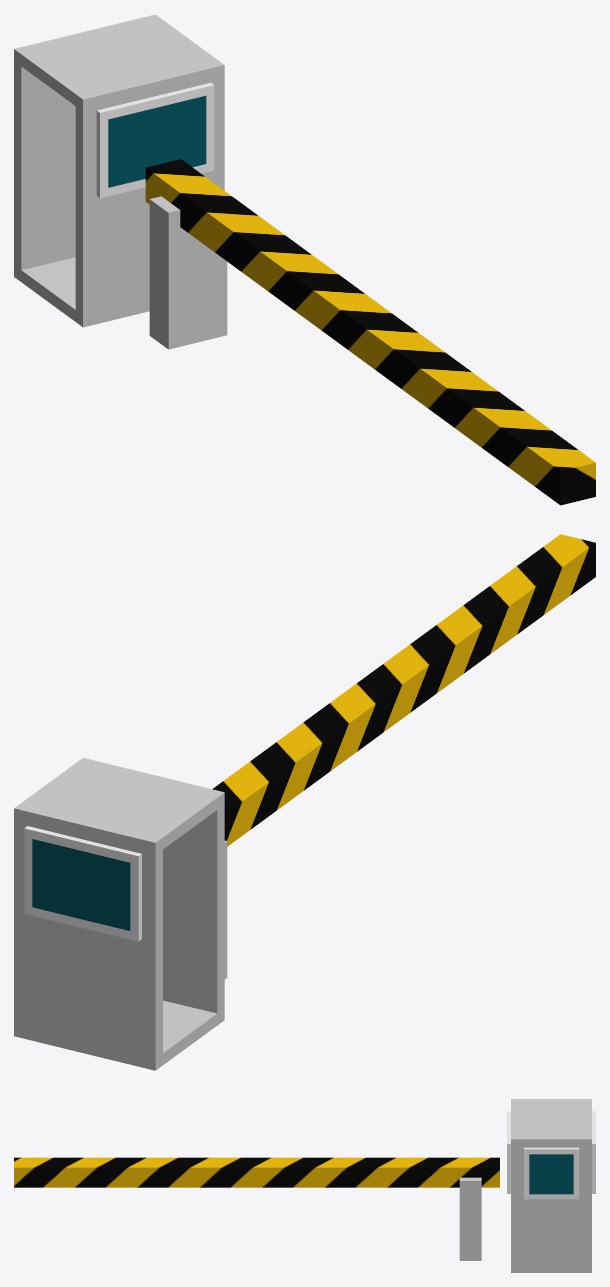
The model's file is Guarita.fbx.
The picture shows the model from 3 angles, top to bottom: view 1: azimuth 30°, elevation 25°; view 2: azimuth 150°, elevation 25°; view 3: azimuth 270°, elevation 25°; orthographic projection. The views are drawn at different scales.
Parts seen in each view (by area): view 1: Corpo, Cancela, Janela Lat 1, Base cancela; view 2: Corpo, Cancela, Janela Lat 2; view 3: Cancela, Corpo, Janela Frente, Base cancela, Janela Lat 2, Janela Lat 1.
Boxes of the visible parts, x1=… form: Corpo: x1=14, y1=14, x2=224, y2=327; Cancela: x1=145, y1=159, x2=595, y2=505; Janela Lat 1: x1=96, y1=82, x2=214, y2=198; Base cancela: x1=149, y1=196, x2=227, y2=349; Corpo: x1=14, y1=758, x2=224, y2=1070; Cancela: x1=212, y1=534, x2=595, y2=846; Janela Lat 2: x1=24, y1=826, x2=141, y2=941; Cancela: x1=14, y1=1157, x2=499, y2=1187; Corpo: x1=511, y1=1099, x2=591, y2=1272; Janela Frente: x1=524, y1=1147, x2=579, y2=1199; Base cancela: x1=459, y1=1177, x2=481, y2=1260; Janela Lat 2: x1=592, y1=1111, x2=595, y2=1193; Janela Lat 1: x1=507, y1=1111, x2=510, y2=1193.
Size of the model in its own units: 135 by 200 by 790.
